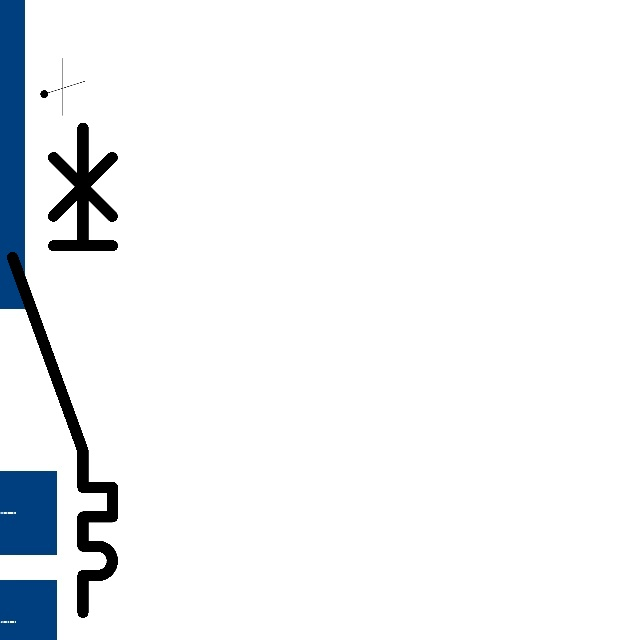interruptor_termomagnetico: (0, 115, 125, 625)
